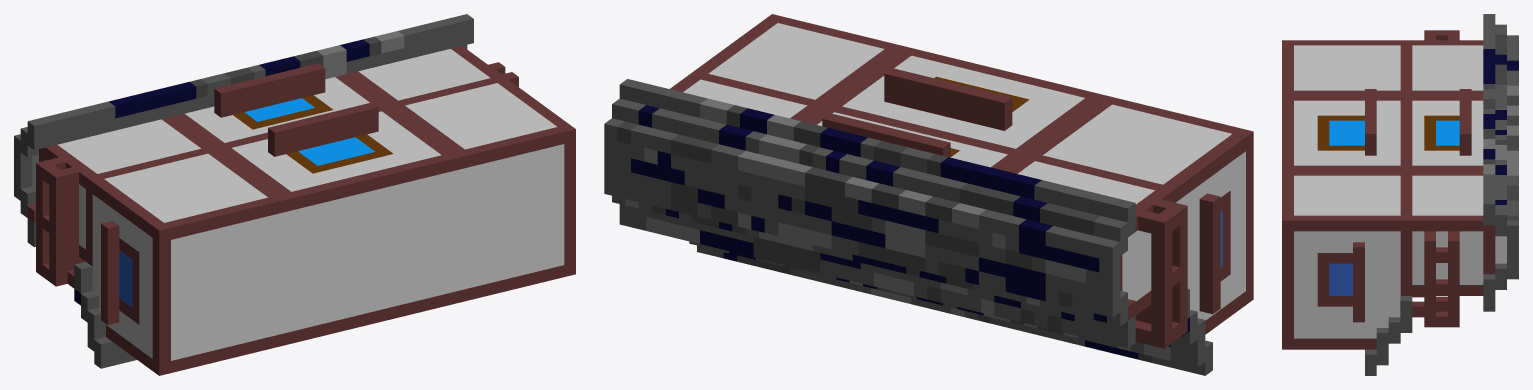
Rendered from yoshida18.fbx.
The picture shows the model from 3 angles, left to right: view 1: azimuth 30°, elevation 25°; view 2: azimuth 150°, elevation 25°; view 3: azimuth 270°, elevation 25°; orthographic projection. The views are drawn at different scales.
Parts seen in each view (by area): view 1: Default; view 2: Default; view 3: Default.
Part boxes in pixels (left/top/right/bottom): Default: left=14, top=14, right=575, bottom=375; Default: left=604, top=14, right=1253, bottom=375; Default: left=1282, top=14, right=1518, bottom=375.
Size of the model in its own units: 40 by 16 by 20.
1 material, 1 textured.
